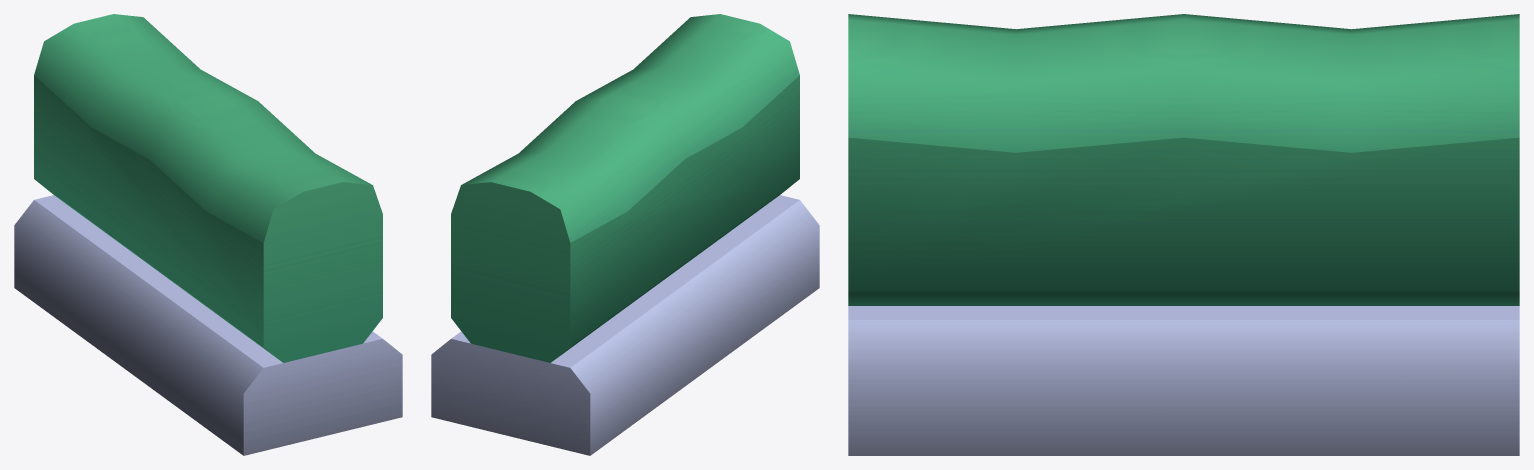
The model's file is hedge-large.fbx.
3 views of the same model, side by side, from view 1: azimuth 30°, elevation 25°; view 2: azimuth 150°, elevation 25°; view 3: azimuth 270°, elevation 25° (orthographic). The views are drawn at different scales.
Visible parts, largest first — view 1: hedge-large; view 2: hedge-large; view 3: hedge-large.
Part boxes in pixels (x1,y1,x2,y2): hedge-large: [14, 14, 402, 455]; hedge-large: [431, 14, 819, 455]; hedge-large: [848, 14, 1519, 455].
Bounding box in the file's own units: 40 × 60 × 100.
Materials: 1 (1 with a texture image).
